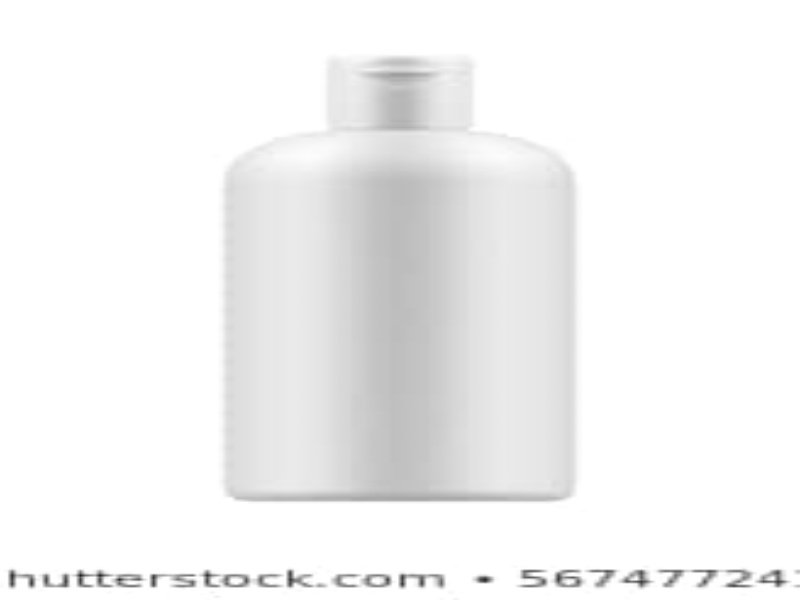shampoo-bottle: (216, 49, 587, 503)
